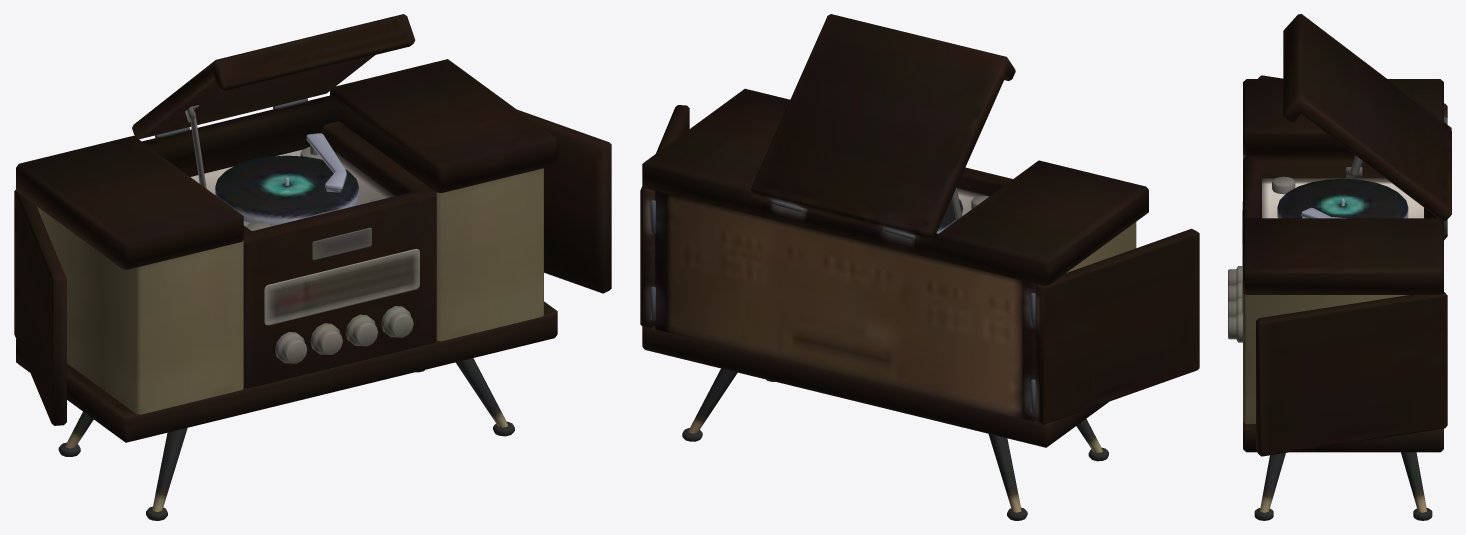
3 views of the same model, side by side, from view 1: azimuth 30°, elevation 25°; view 2: azimuth 150°, elevation 25°; view 3: azimuth 270°, elevation 25° (orthographic). The views are drawn at different scales.
Size of the model in its own units: 17.66 by 12.74 by 6.72.
Materials: 1 (1 with a texture image).
